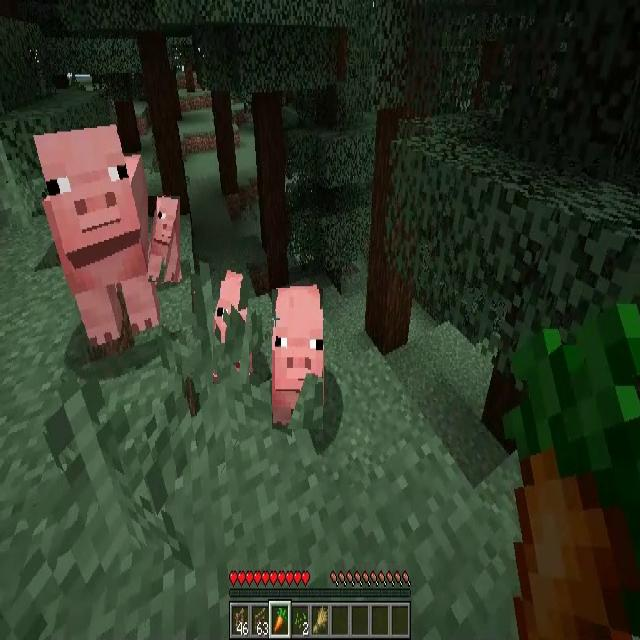pig: (32, 130, 159, 341), (272, 289, 323, 429), (213, 269, 249, 384), (148, 196, 180, 282)
